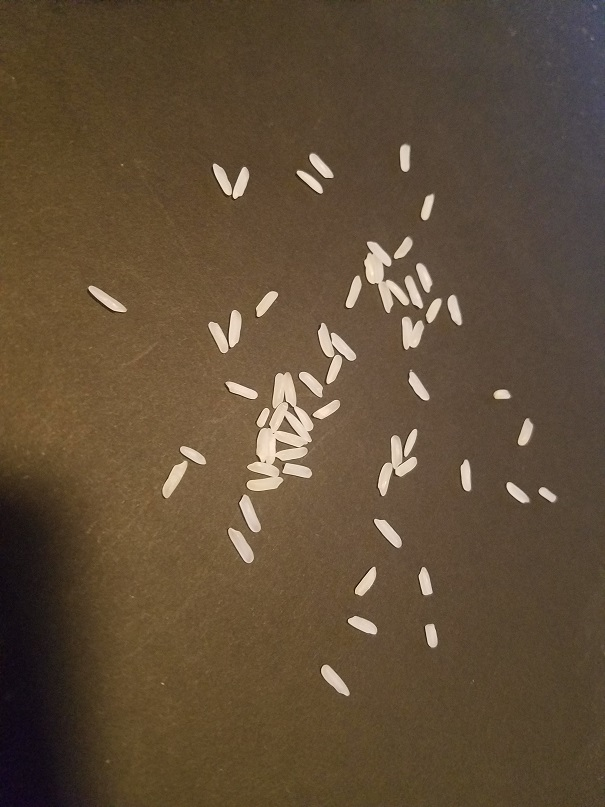egg: (224, 523, 259, 566), (157, 456, 190, 499), (371, 514, 408, 551), (86, 282, 127, 315), (236, 492, 265, 538), (316, 661, 351, 699), (412, 562, 444, 599), (209, 159, 236, 200), (351, 564, 383, 598), (326, 328, 359, 360), (403, 367, 431, 404), (292, 166, 325, 197), (175, 442, 212, 469), (402, 273, 429, 310), (204, 320, 230, 358), (344, 612, 381, 638), (297, 370, 329, 400), (308, 149, 338, 181), (224, 377, 263, 401), (363, 236, 393, 267), (252, 287, 281, 319), (442, 292, 469, 326), (503, 478, 532, 508), (280, 460, 319, 482), (390, 231, 416, 264), (230, 164, 253, 201), (226, 306, 244, 353), (290, 401, 316, 433), (421, 294, 446, 327), (314, 319, 335, 358), (243, 475, 286, 494), (413, 259, 436, 293), (240, 458, 283, 476), (385, 278, 410, 308), (343, 273, 363, 310), (271, 444, 312, 462), (392, 453, 420, 479), (268, 399, 292, 429), (280, 410, 307, 436), (357, 250, 376, 286), (375, 460, 392, 499), (396, 315, 414, 351), (457, 456, 474, 494), (313, 397, 342, 419), (419, 190, 438, 223), (386, 432, 404, 466), (402, 426, 419, 461), (376, 279, 393, 314), (410, 317, 427, 351), (271, 367, 286, 405), (518, 414, 535, 447), (324, 353, 343, 382), (275, 431, 307, 447), (424, 619, 442, 647), (283, 373, 301, 399), (397, 142, 412, 173), (370, 254, 385, 284), (537, 484, 559, 504), (264, 431, 277, 462), (254, 404, 270, 429), (255, 425, 265, 461), (491, 387, 513, 403)
